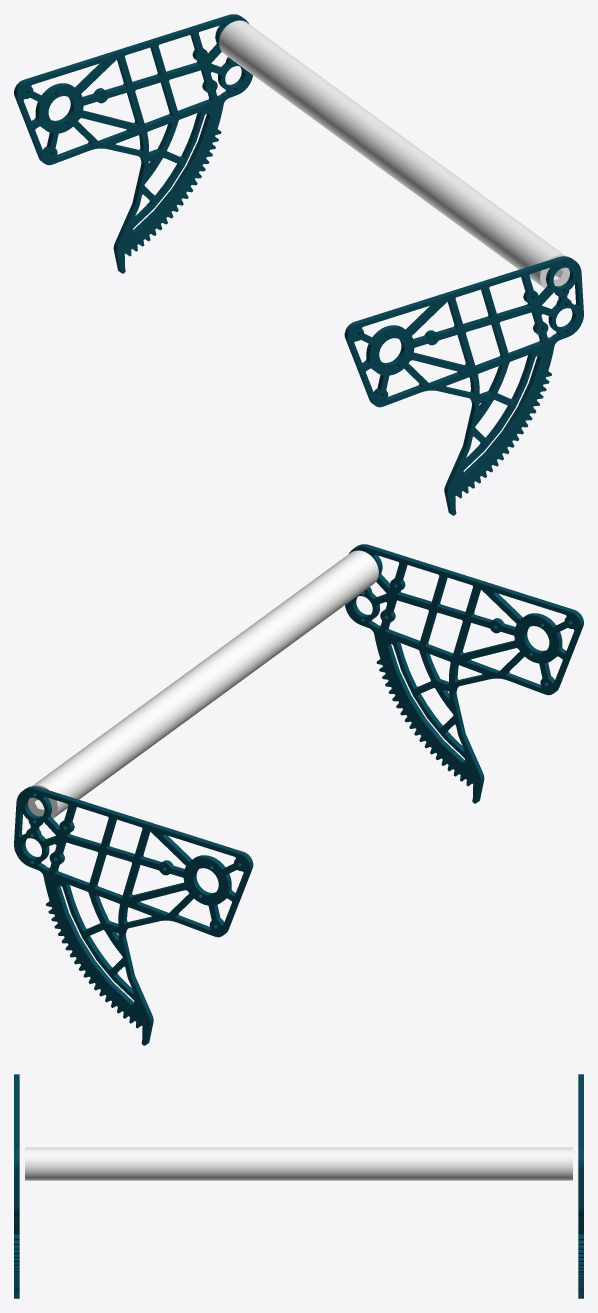
3 renders of one model, top to bottom at view 1: azimuth 30°, elevation 25°; view 2: azimuth 150°, elevation 25°; view 3: azimuth 270°, elevation 25°, orthographic. The views are drawn at different scales.
Visible parts, largest first — view 1: left hood plate (×2), 1.5od hood roller 3dp (×3); view 2: left hood plate (×2), 1.5od hood roller 3dp (×3); view 3: 1.5od hood roller 3dp (×3), left hood plate (×2).
Boxes of the visible parts, bbox=[...] form: left hood plate (×2): bbox=[14, 14, 583, 515]; 1.5od hood roller 3dp (×3): bbox=[219, 20, 569, 288]; left hood plate (×2): bbox=[14, 544, 583, 1045]; 1.5od hood roller 3dp (×3): bbox=[28, 550, 378, 818]; 1.5od hood roller 3dp (×3): bbox=[25, 1147, 572, 1180]; left hood plate (×2): bbox=[14, 1074, 583, 1298].
Bounding box in the file's own units: 0.267 × 0.2484 × 0.654.
